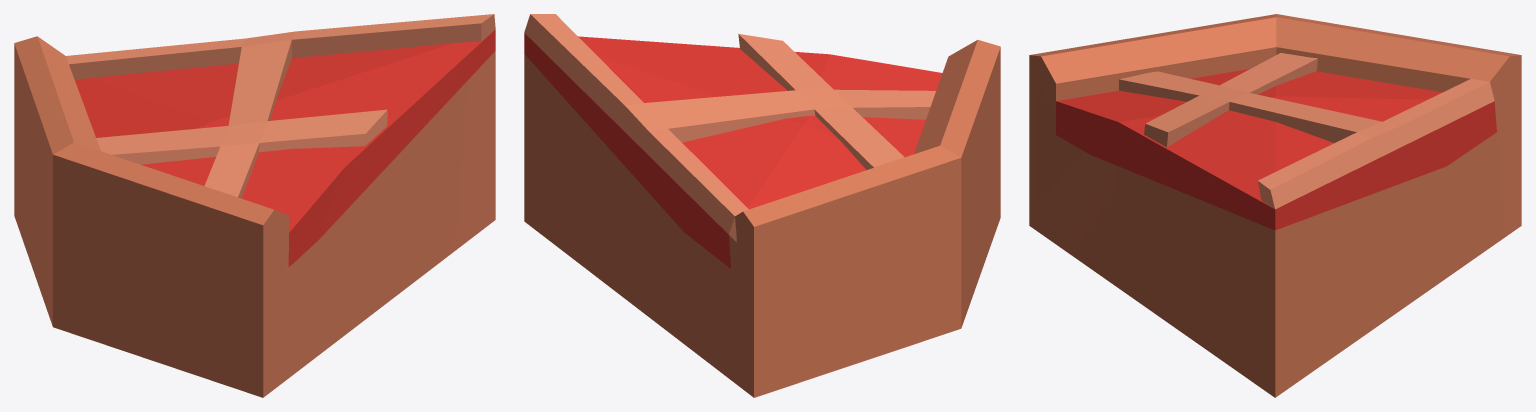
The model's file is SM_Food_Pie_04.fbx.
The picture shows the model from 3 angles, left to right: view 1: azimuth 30°, elevation 25°; view 2: azimuth 150°, elevation 25°; view 3: azimuth 270°, elevation 25°; orthographic projection.
Visible parts, largest first — view 1: SM_Food_Pie_04; view 2: SM_Food_Pie_04; view 3: SM_Food_Pie_04.
Part boxes in pixels (x1,y1,x2,y2): SM_Food_Pie_04: [14, 14, 495, 397]; SM_Food_Pie_04: [524, 14, 1000, 397]; SM_Food_Pie_04: [1029, 14, 1521, 397].
Bounding box in the file's own units: 0.1453 × 0.0655 × 0.1417.
